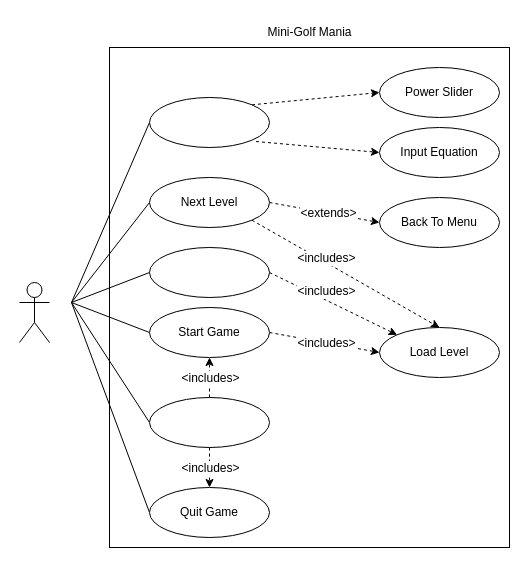
Some shapes in this 527 by 565 pixel diagram are drawn without their labels. The shapes that lost their labels are listed below. From the top down, each one's centre as x and y in pixels, then its label:
At point 209,122: "Take Shot".
At point 209,272: "Restart Level".
At point 34,312: "Player".
At point 209,422: "Play Tutorial".
